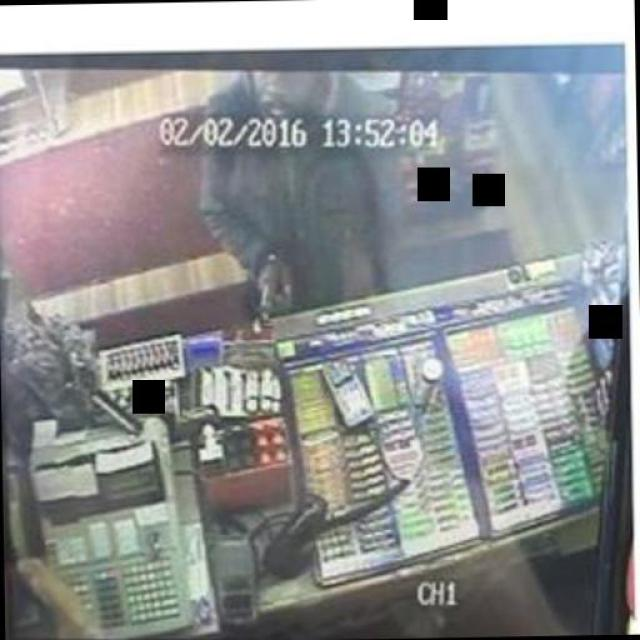gun: (234, 242, 302, 318)
